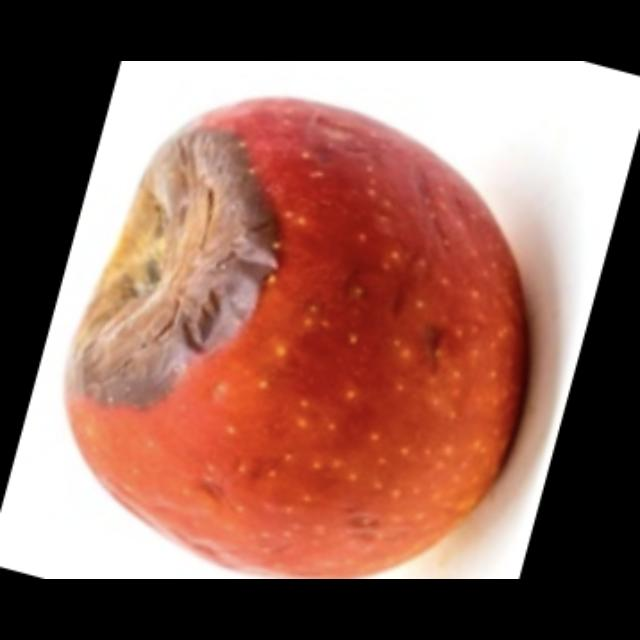Apel Tidak Segar: (68, 106, 537, 579)
